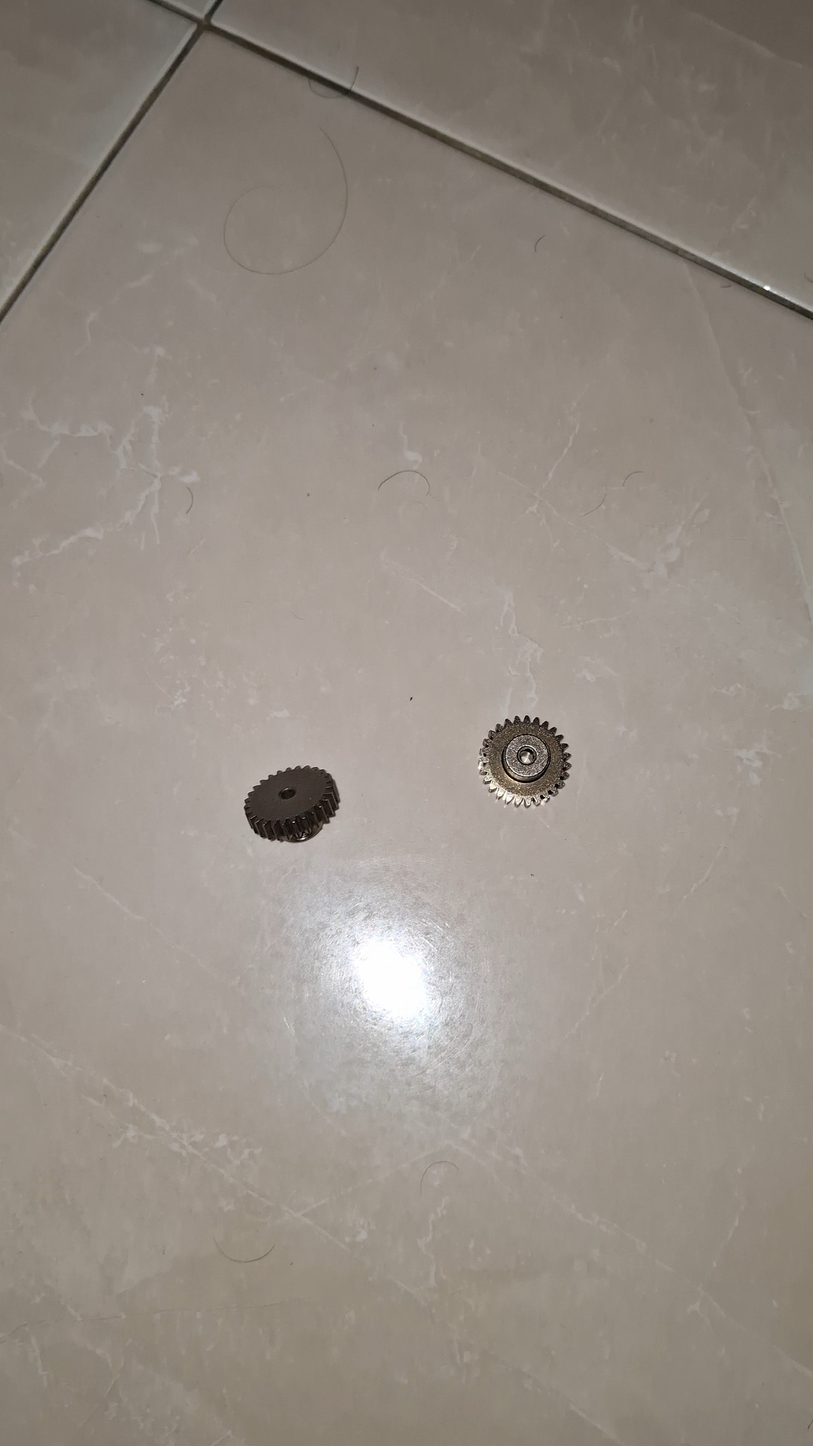spur gear: (479, 716, 569, 807), (245, 767, 338, 841)
